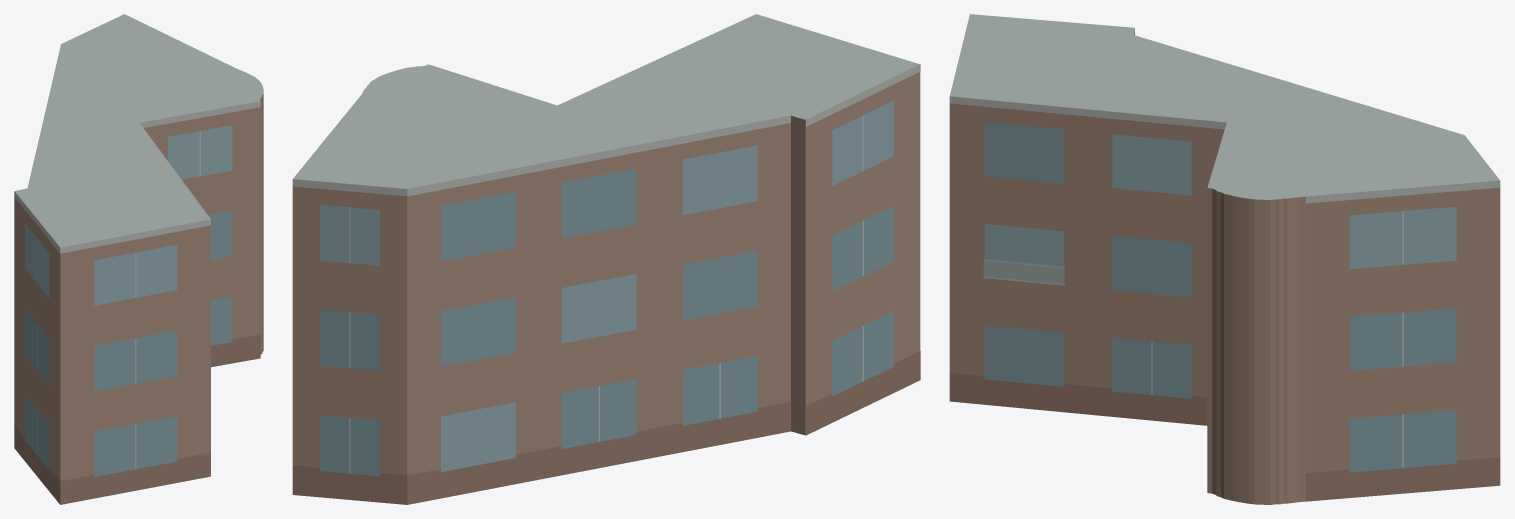
Rendered from survey-upis-32533633.glb.
3 renders of one model, left to right at view 1: azimuth 30°, elevation 25°; view 2: azimuth 150°, elevation 25°; view 3: azimuth 270°, elevation 25°, orthographic. The views are drawn at different scales.
Parts seen in each view (by area): view 1: survey-upis-32533633.tmp; view 2: survey-upis-32533633.tmp; view 3: survey-upis-32533633.tmp.
Part boxes in pixels (x1,y1,x2,y2): survey-upis-32533633.tmp: (14,14,263,504); survey-upis-32533633.tmp: (292,14,920,504); survey-upis-32533633.tmp: (949,14,1500,504).
Bounding box in the file's own units: 13.73 × 10.5 × 17.19.
